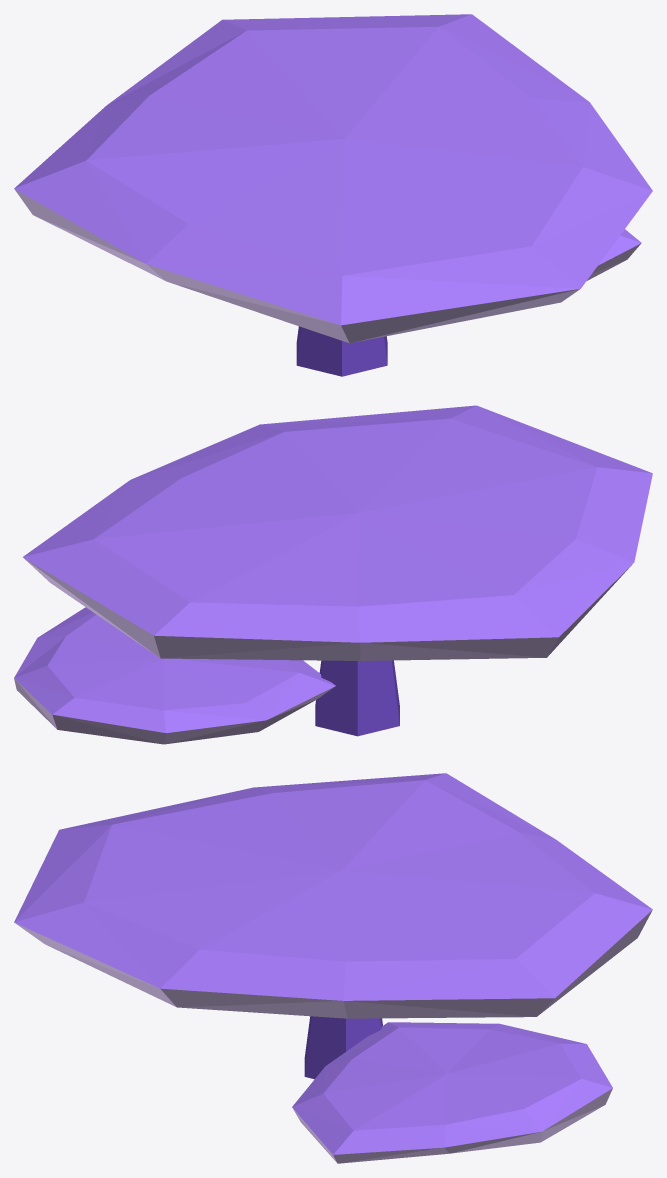
Rendered from coral_table_purple.fbx.
3 views of the same model, one above another, from view 1: azimuth 30°, elevation 25°; view 2: azimuth 150°, elevation 25°; view 3: azimuth 270°, elevation 25° (orthographic). The views are drawn at different scales.
Visible parts, largest first — view 1: coral_table_purple; view 2: coral_table_purple; view 3: coral_table_purple.
Boxes of the visible parts, left/top/right/bottom form: coral_table_purple: left=14, top=14, right=652, bottom=376; coral_table_purple: left=14, top=405, right=652, bottom=744; coral_table_purple: left=14, top=773, right=652, bottom=1163.
Size of the model in its own units: 1116 by 410 by 1209.
1 material, 1 textured.
